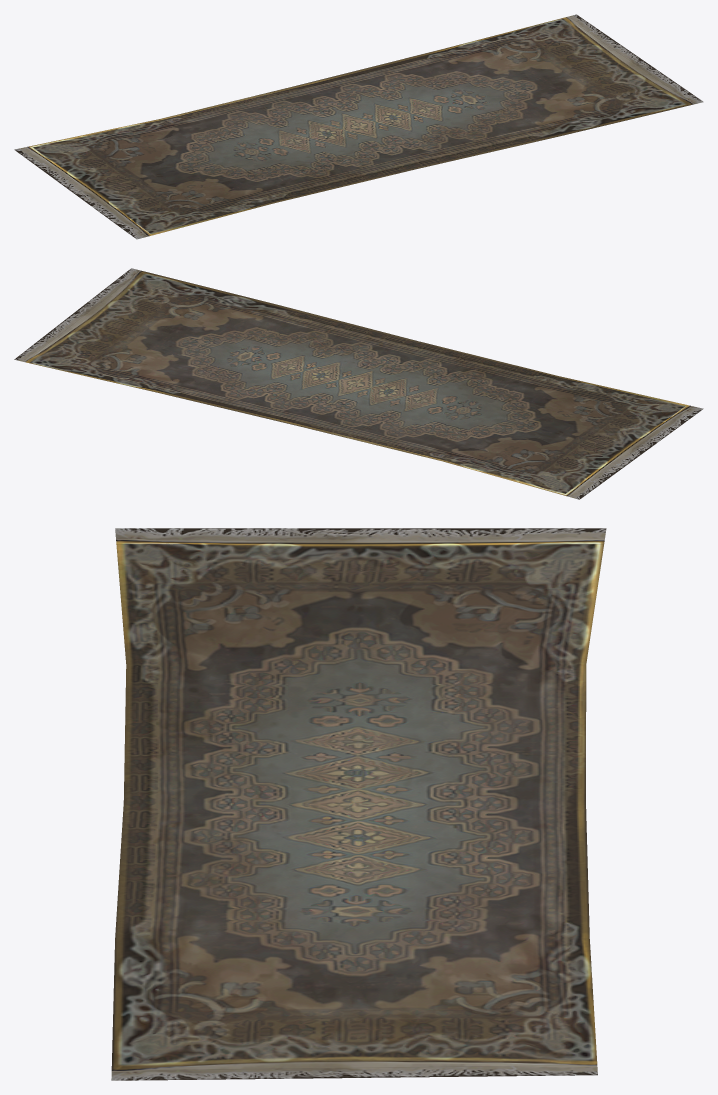
File: carpets.FBX
The picture shows the model from 3 angles, top to bottom: view 1: azimuth 30°, elevation 25°; view 2: azimuth 150°, elevation 25°; view 3: azimuth 270°, elevation 25°; orthographic projection. The views are drawn at different scales.
Visible parts, largest first — view 1: carpets; view 2: carpets; view 3: carpets.
Boxes of the visible parts, x1=… form: carpets: x1=14, y1=14, x2=703, y2=239; carpets: x1=14, y1=268, x2=703, y2=499; carpets: x1=111, y1=528, x2=606, y2=1080.
Bounding box in the file's own units: 3.22 × 0 × 1.22.
